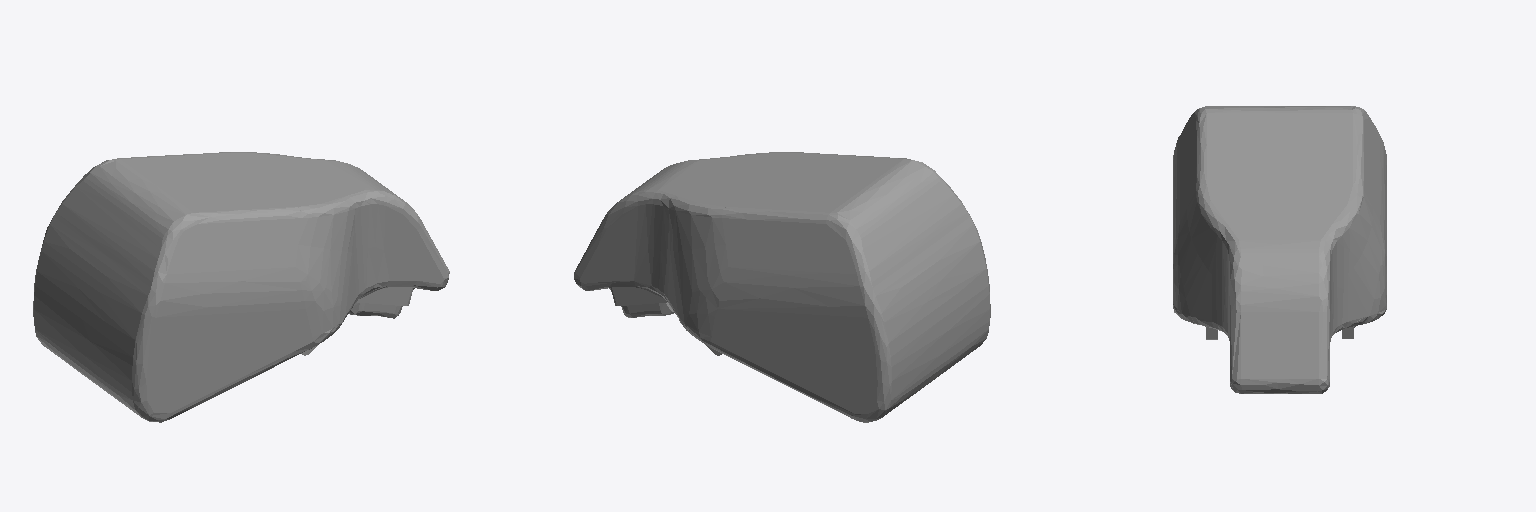
Rendered from l_finger.obj.
3 views of the same model, side by side, from view 1: azimuth 30°, elevation 25°; view 2: azimuth 150°, elevation 25°; view 3: azimuth 270°, elevation 25° (orthographic).
Visible parts, largest first — view 1: finger_M2K_mod_finger_M2K_modShape; view 2: finger_M2K_mod_finger_M2K_modShape; view 3: finger_M2K_mod_finger_M2K_modShape.
Part boxes in pixels (x1,y1,x2,y2): finger_M2K_mod_finger_M2K_modShape: (33,152,449,422); finger_M2K_mod_finger_M2K_modShape: (574,152,990,422); finger_M2K_mod_finger_M2K_modShape: (1173,106,1386,393).
Bounding box in the file's own units: 0.1046 × 0.0548 × 0.0562.